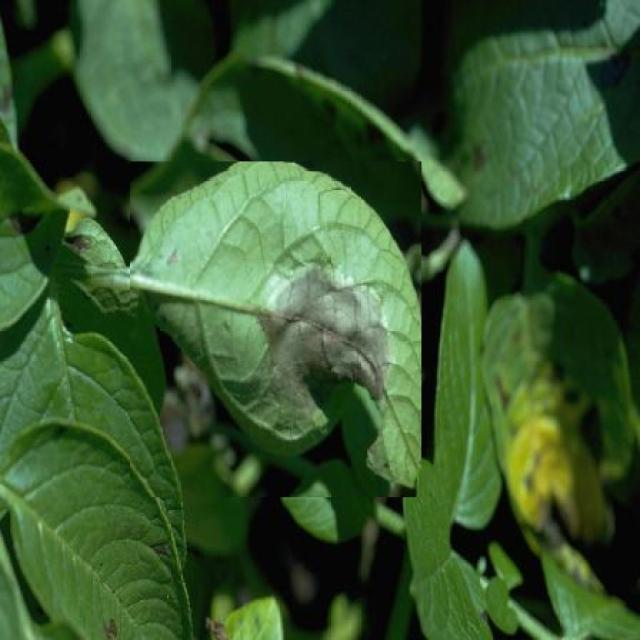Late Blight: (130, 162, 421, 497)
